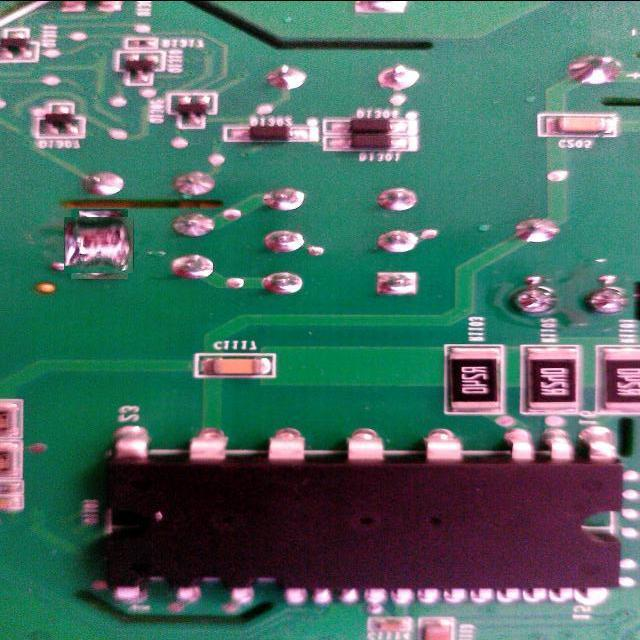Short_circuit: (68, 213, 131, 276)
